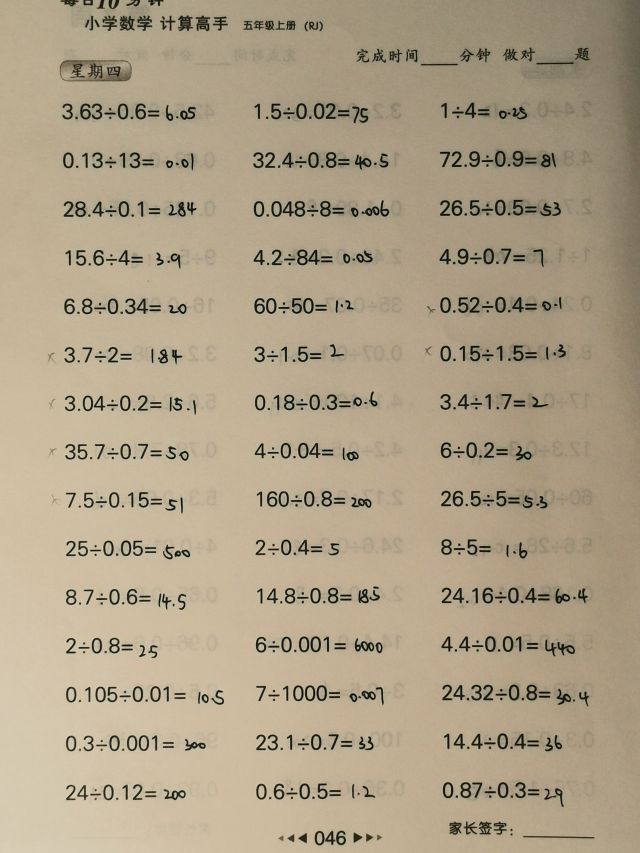equation: (437, 679, 593, 707), (61, 681, 227, 707), (437, 583, 592, 608), (436, 631, 578, 658), (249, 146, 391, 173), (250, 195, 394, 221), (421, 340, 570, 365), (423, 292, 566, 318), (62, 731, 210, 756), (57, 101, 199, 127), (438, 779, 569, 807), (252, 680, 387, 707), (58, 147, 197, 173), (61, 390, 199, 416), (61, 583, 189, 611), (62, 535, 193, 562), (250, 388, 381, 415), (251, 631, 386, 657), (62, 486, 187, 514), (61, 197, 201, 222), (48, 343, 187, 368), (61, 438, 192, 464), (250, 97, 371, 125), (253, 582, 383, 608), (436, 195, 565, 221), (439, 728, 565, 754), (60, 294, 191, 319), (436, 146, 561, 172), (253, 486, 377, 512), (61, 245, 185, 271), (63, 780, 191, 805), (252, 779, 380, 804), (250, 245, 378, 270), (253, 729, 378, 754), (436, 389, 553, 415), (436, 485, 550, 511), (250, 437, 363, 463), (434, 243, 547, 269), (62, 632, 162, 660), (249, 292, 357, 317), (435, 437, 535, 463), (250, 340, 348, 366), (436, 535, 531, 561), (436, 97, 530, 123), (252, 535, 343, 560)
